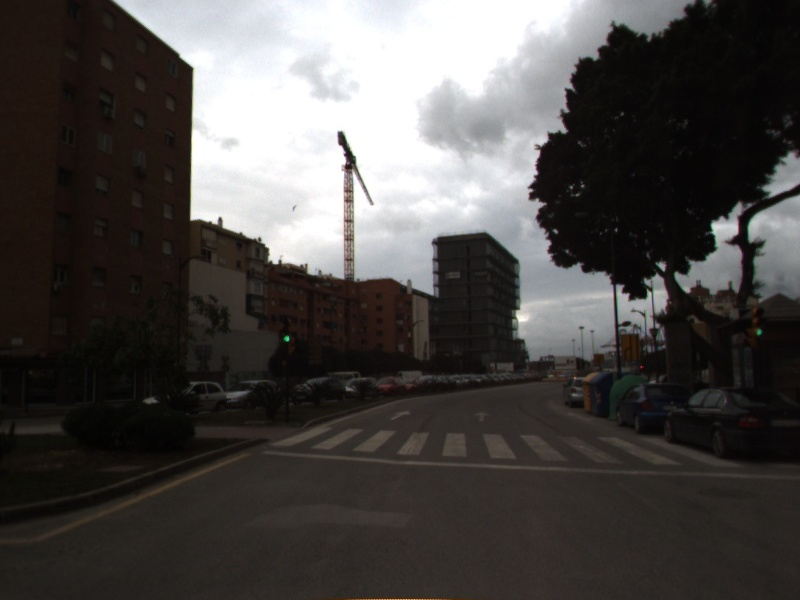STRAIGHT: (387, 408, 413, 422), (472, 409, 493, 423)
